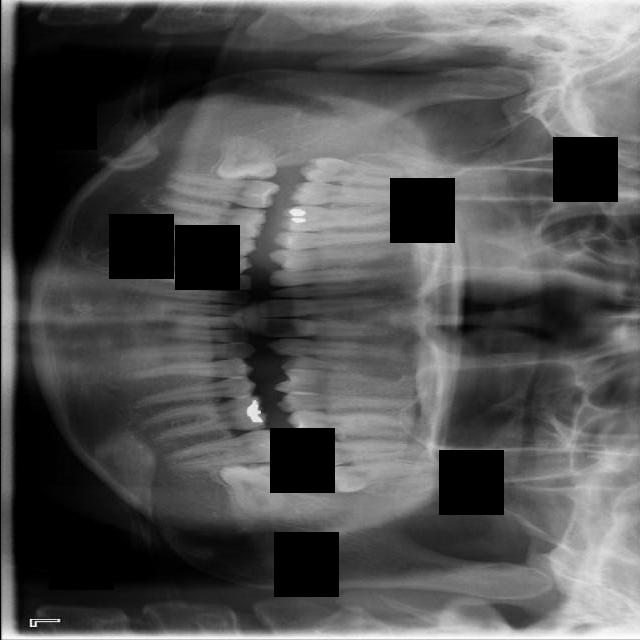3M ESPE Implant: (297, 156, 415, 185)
52: (218, 389, 272, 441), (235, 422, 290, 472), (280, 205, 337, 232), (297, 439, 347, 468), (232, 180, 280, 209)
73: (51, 606, 57, 610)
BioHorizons Implant: (297, 437, 423, 468)
BioLife Implant: (314, 450, 440, 497)
Biomet 3i Implant: (219, 461, 283, 516)
Blue Sky Bio Implant: (163, 427, 289, 472)
Caries: (289, 177, 415, 207)
Implant: (163, 172, 280, 210)
Keystone Dental Implant: (213, 134, 281, 189)
